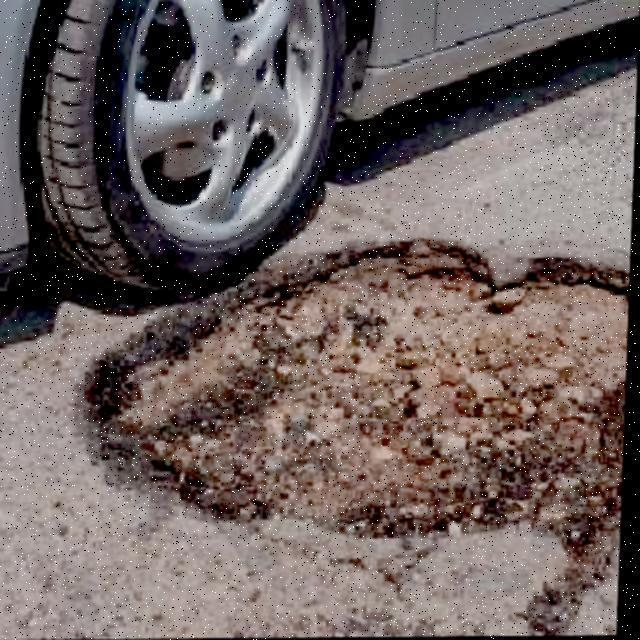pothole: (78, 233, 632, 562)
